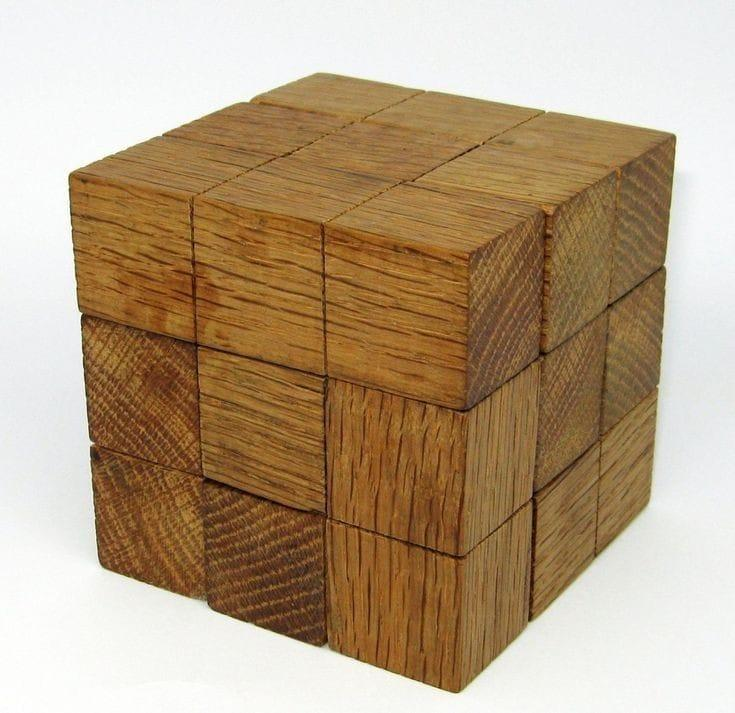cubos: (60, 57, 697, 700)
